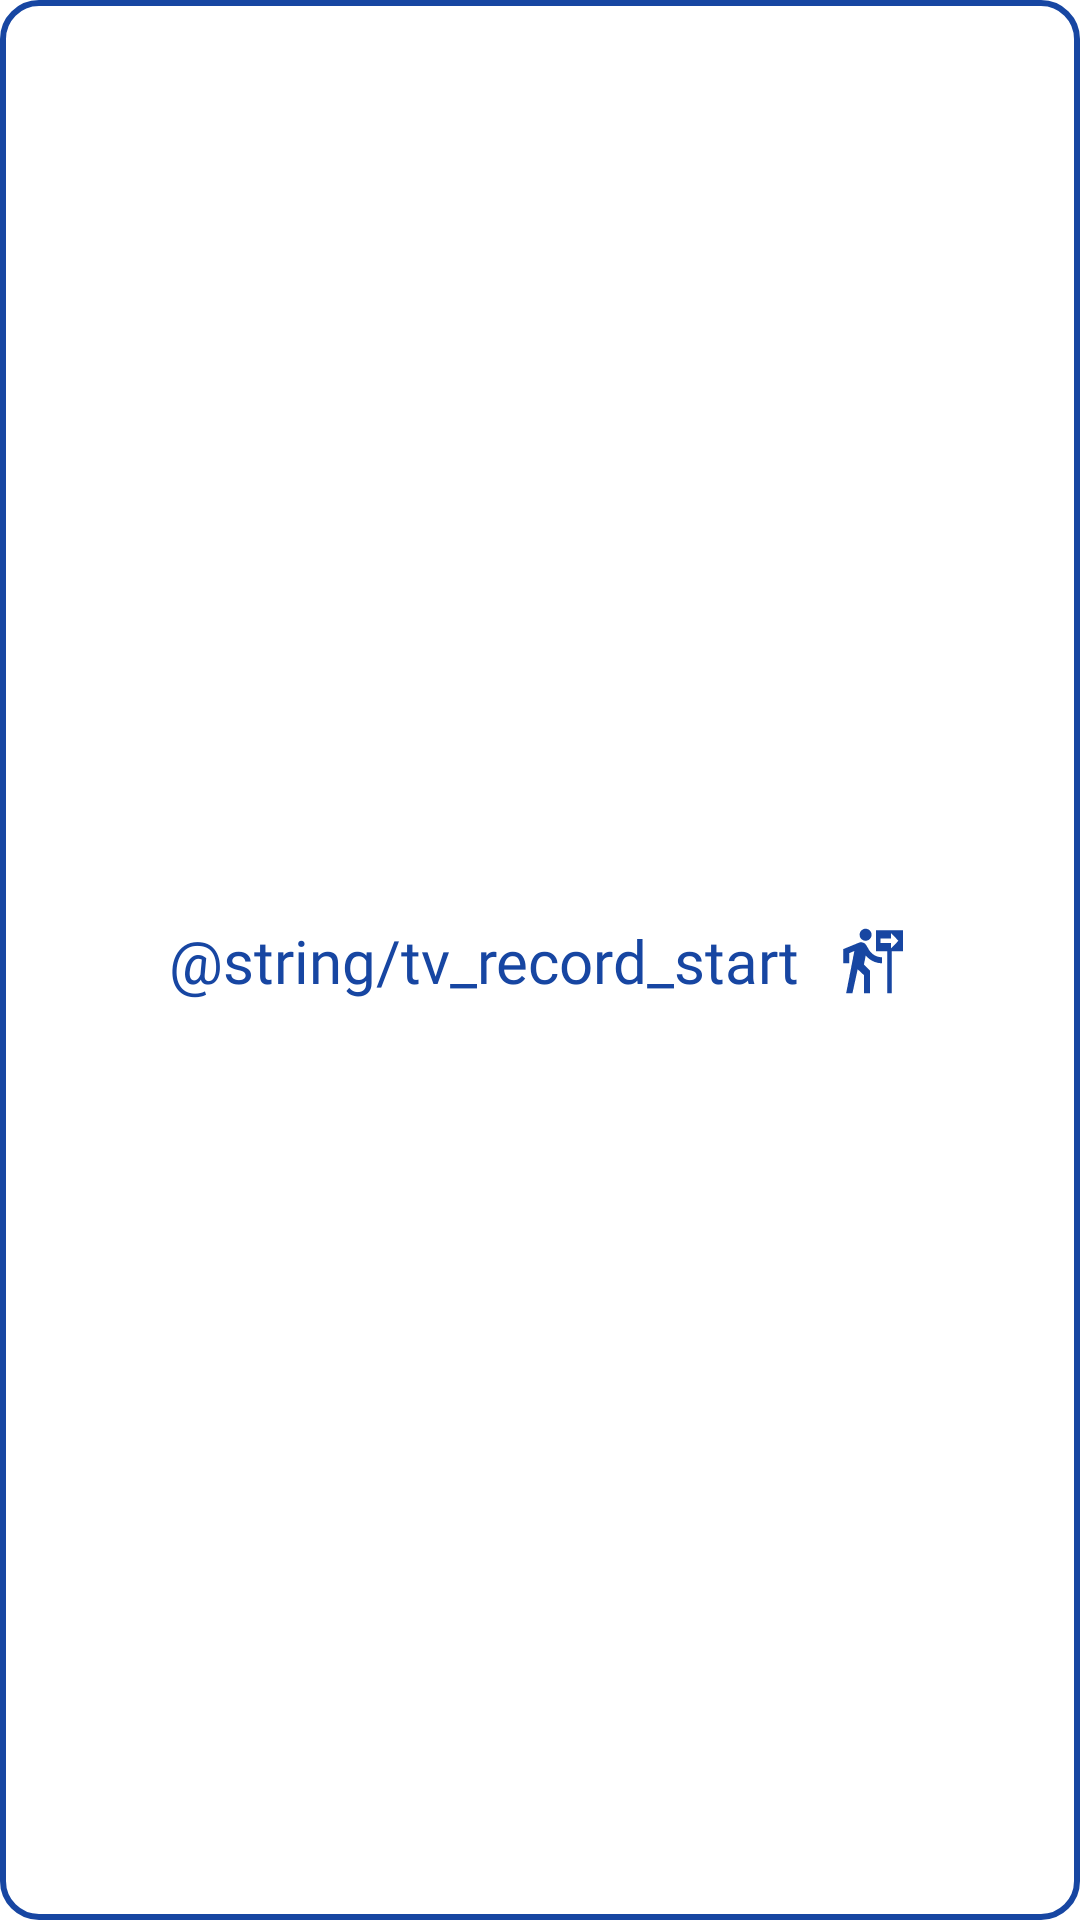

Locate icon controls on the screen. Image size 1080×1920, boxes as (x1, y1, x2, y2).
recorde start: (843, 928, 903, 994)
